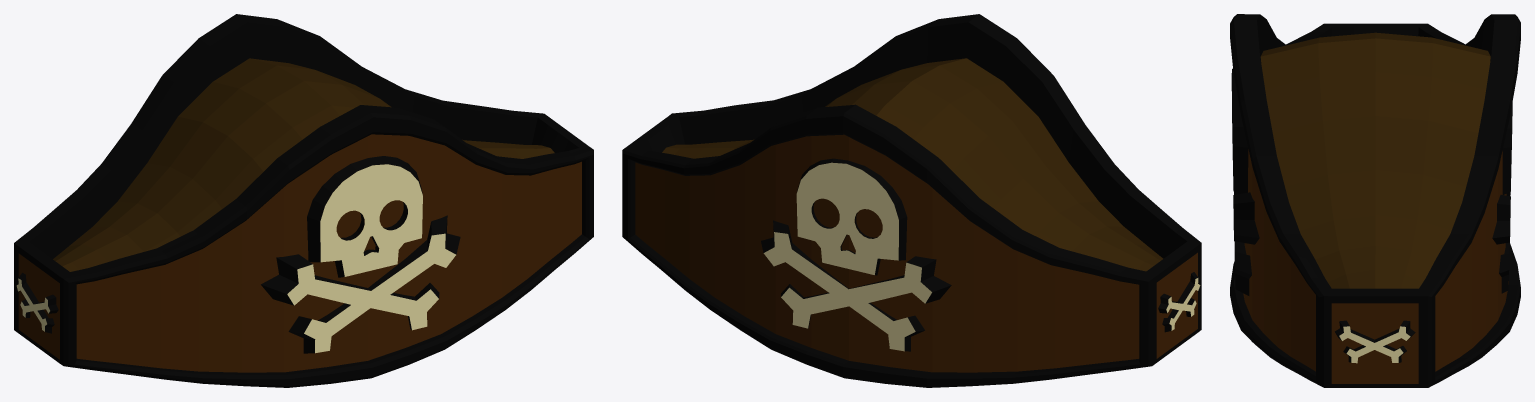
The model's file is Piraten Hut.fbx.
The picture shows the model from 3 angles, left to right: view 1: azimuth 30°, elevation 25°; view 2: azimuth 150°, elevation 25°; view 3: azimuth 270°, elevation 25°; orthographic projection. The views are drawn at different scales.
Parts seen in each view (by area): view 1: Piraten Hut; view 2: Piraten Hut; view 3: Piraten Hut.
Part boxes in pixels (x1=…): Piraten Hut: x1=14, y1=14, x2=593, y2=387; Piraten Hut: x1=622, y1=14, x2=1201, y2=387; Piraten Hut: x1=1230, y1=14, x2=1520, y2=387.
Bounding box in the file's own units: 1339 × 627 × 591.
